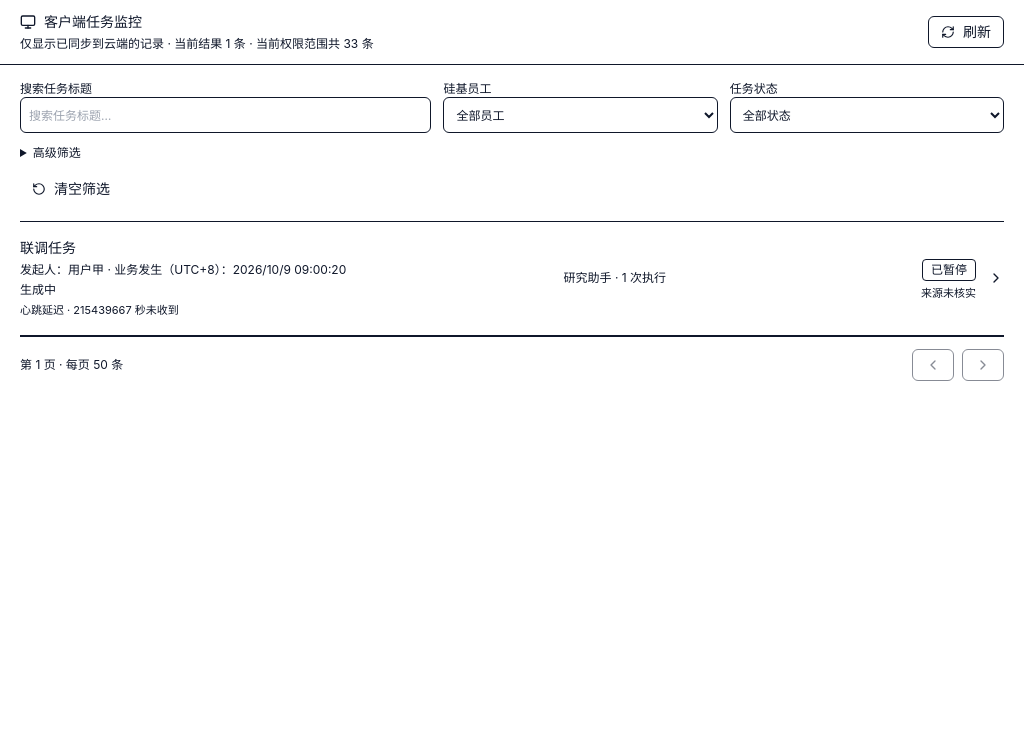
it: client monitor › warns for missing content chunks and approximate content timestamps
Click the button "联调任务".
click(48, 248)  # box [20,222,1004,336]
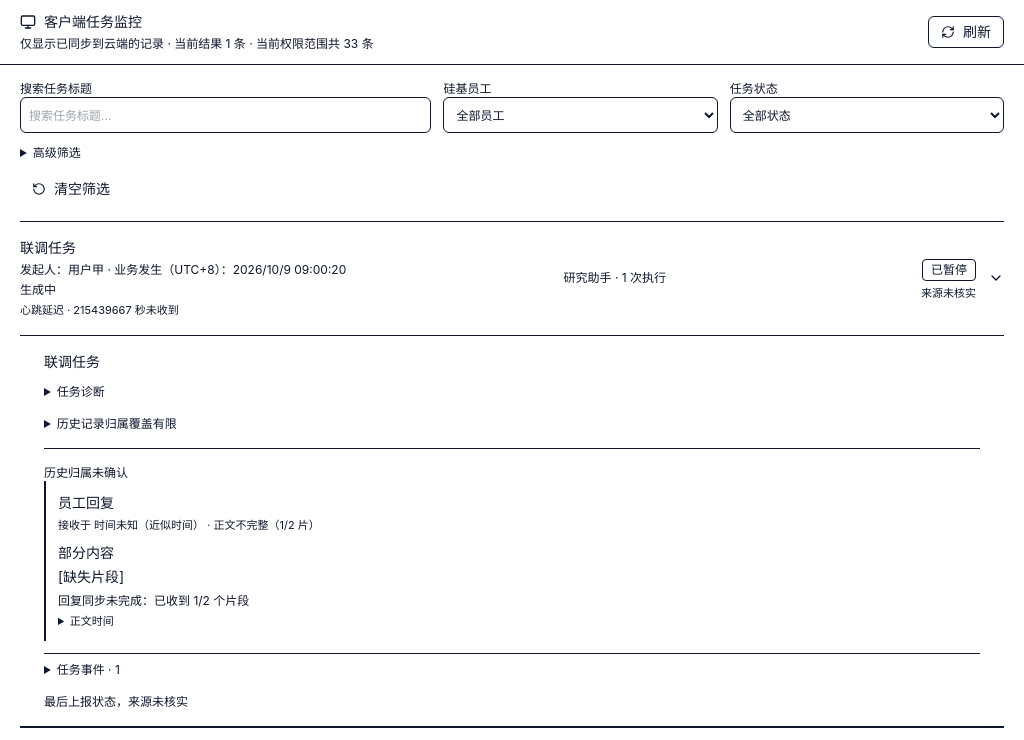
Expected: the text "回复同步未完成：已收到 1/2 个片段" is shown, [58,592,249,608]
Expected: the text "正文时间 发生时间（UTC+8）：时间未知 · 接收时间（UTC+8）：时间未知" is shown, [58,614,372,644]
